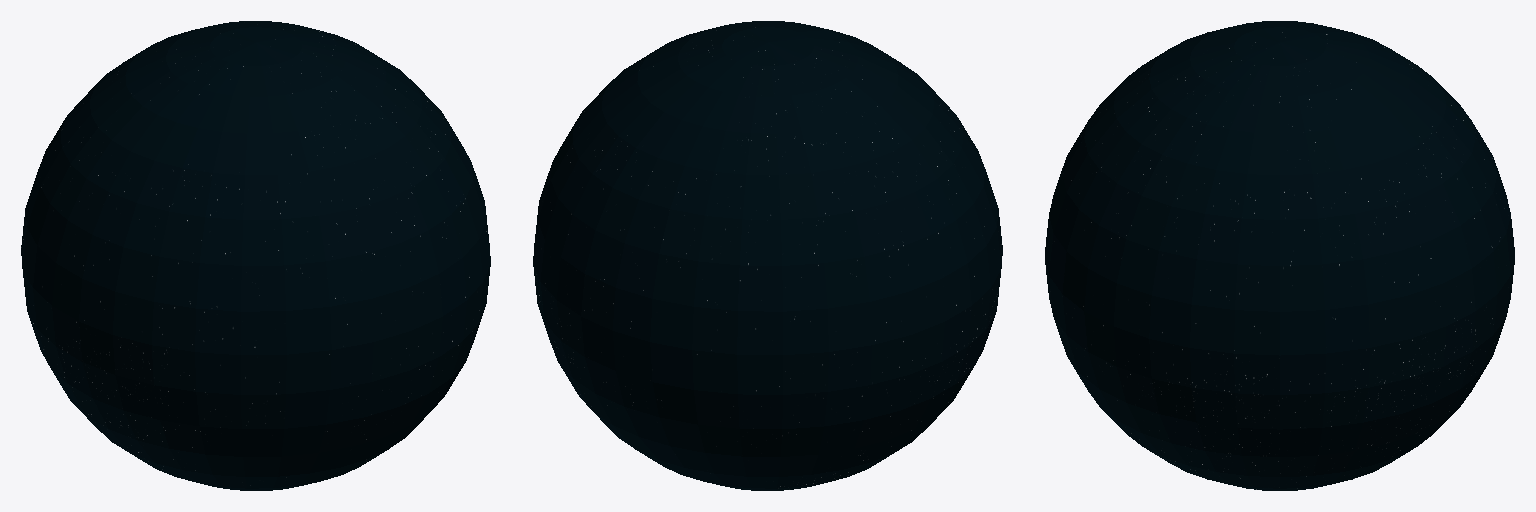
3 views of the same model, side by side, from view 1: azimuth 30°, elevation 25°; view 2: azimuth 150°, elevation 25°; view 3: azimuth 270°, elevation 25° (orthographic).
Visible parts, largest first — view 1: 球; view 2: 球; view 3: 球.
Part boxes in pixels (left/top/right/bottom): 球: left=21, top=21, right=490, bottom=490; 球: left=533, top=21, right=1002, bottom=490; 球: left=1045, top=21, right=1514, bottom=490.
Bounding box in the file's own units: 75.06 × 75.06 × 75.06.
1 materials, 1 textured.